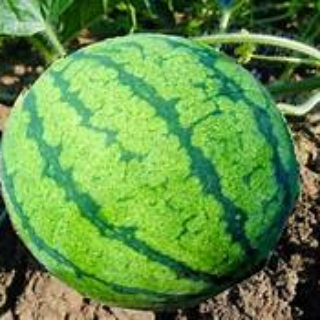dua_hau: (1, 33, 301, 313)
